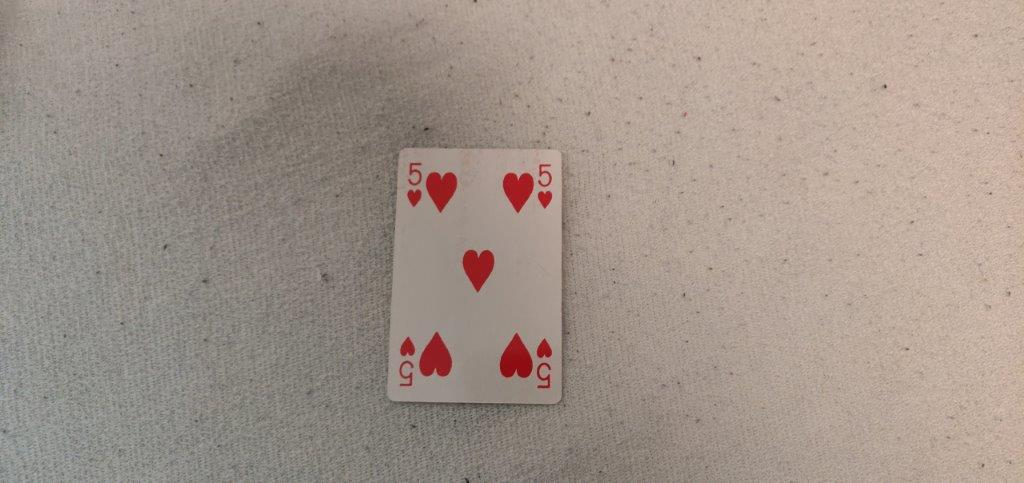5H: (535, 159, 558, 217), (403, 161, 427, 208)
